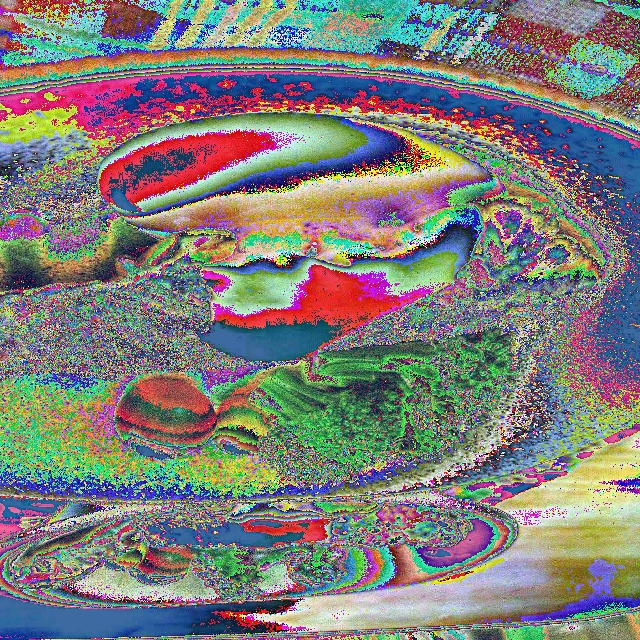background: (9, 102, 466, 603), (0, 113, 607, 487)
